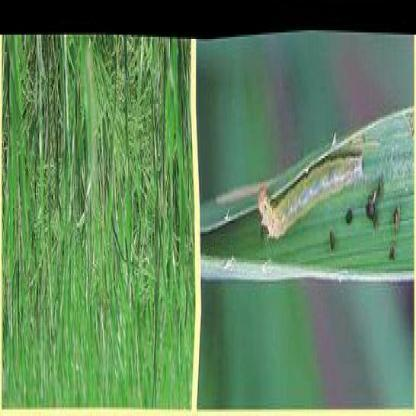leaf-folder: (246, 132, 377, 270)
